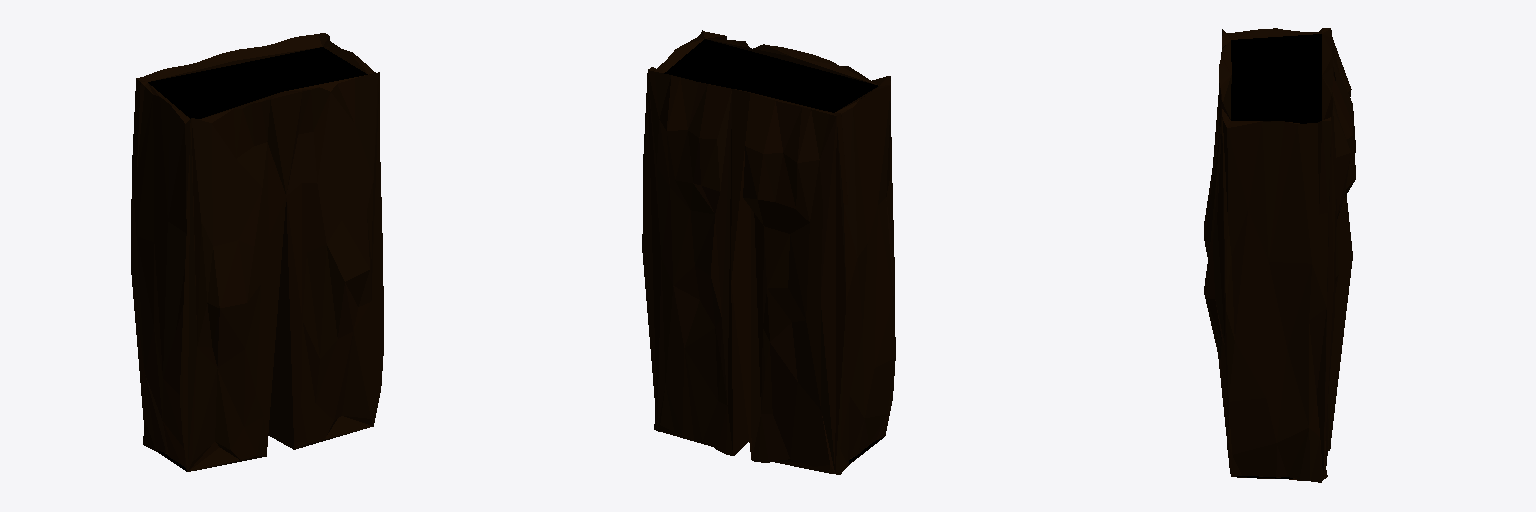
Rendered from Leggings.obj.
The picture shows the model from 3 angles: view 1: azimuth 30°, elevation 25°; view 2: azimuth 150°, elevation 25°; view 3: azimuth 270°, elevation 25°; orthographic projection.
Visible parts, largest first — view 1: Cube; view 2: Cube; view 3: Cube.
Boxes of the visible parts, x1=… form: Cube: x1=131, y1=33, x2=383, y2=471; Cube: x1=642, y1=30, x2=895, y2=474; Cube: x1=1204, y1=28, x2=1355, y2=482.
Bounding box in the file's own units: 2.21 × 3.74 × 1.4.